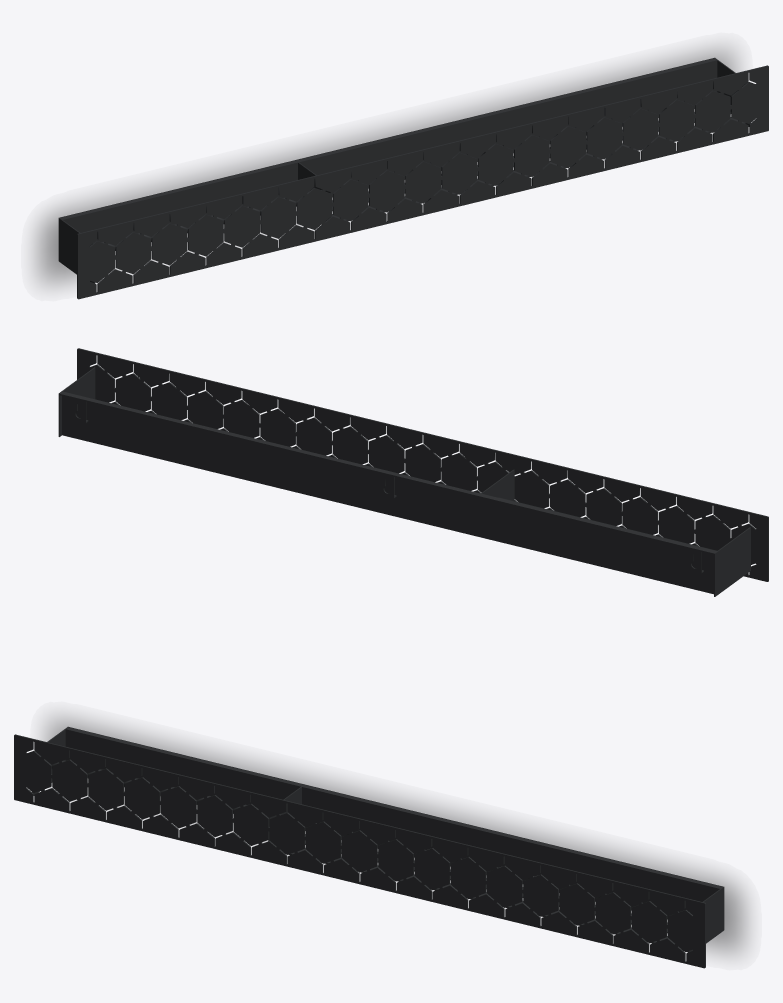
Rendered from bee-double.4d1110fbdf.ar.glb.
3 renders of one model, top to bottom at view 1: azimuth 30°, elevation 25°; view 2: azimuth 150°, elevation 25°; view 3: azimuth 330°, elevation 25°, orthographic.
Visible parts, largest first — view 1: NAUO1, object 2; view 2: NAUO1; view 3: NAUO1, object 2.
Boxes of the visible parts, left/top/right/bottom form: NAUO1: left=58, top=57, right=768, bottom=299; object 2: left=34, top=48, right=738, bottom=285; NAUO1: left=58, top=348, right=768, bottom=596; NAUO1: left=14, top=726, right=724, bottom=968; object 2: left=44, top=717, right=748, bottom=954.
Bounding box in the file's own units: 1.08 × 0.17 × 0.092.
2 materials, 1 textured.
